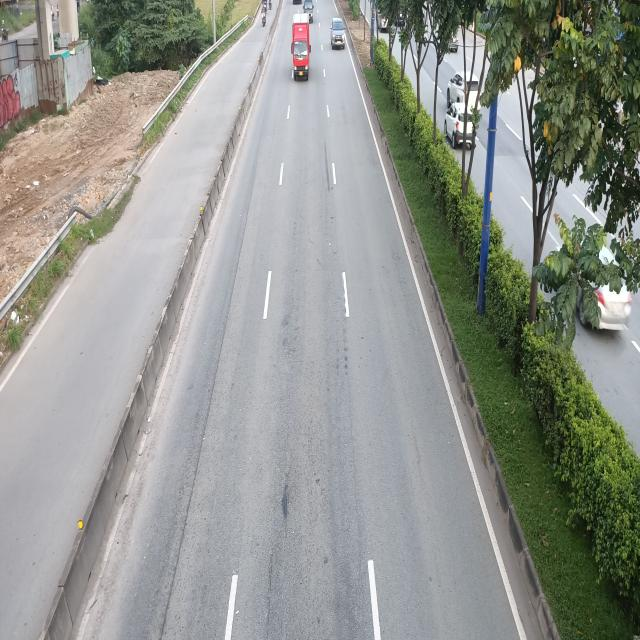car: (332, 18, 347, 50)
truck: (291, 15, 311, 83)
